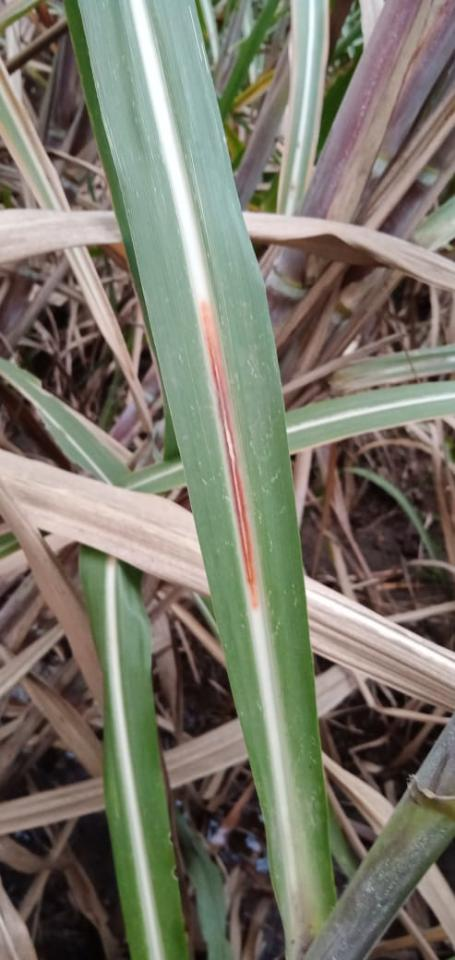RedRot: (198, 300, 259, 612)
